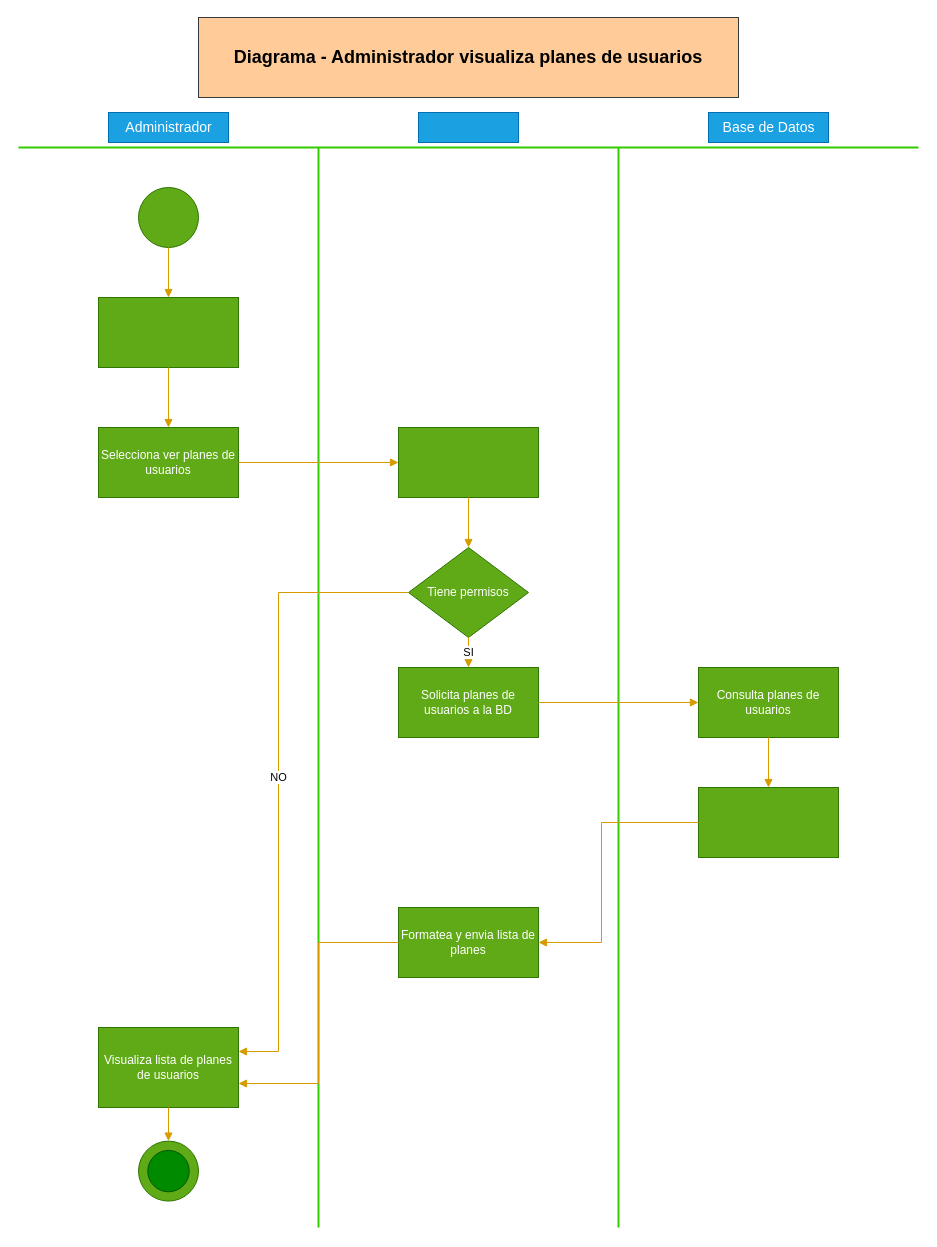
Some shapes in this 937 by 1247 pixel diagram are drawn without their labels. Here are the shapes that lost their labels. From the top down, the centre of each, then its label:
the point at 468,127: Backend
the point at 168,332: Ingresa al sistema
the point at 468,462: Verifica permisos de administrador
the point at 768,822: Retorna resultados de planes
